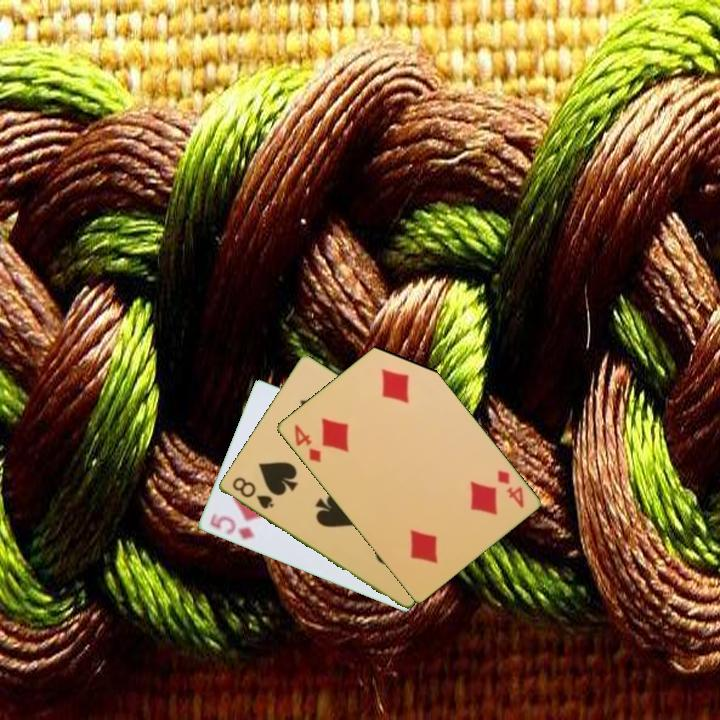4d: (290, 421, 324, 466), (493, 467, 527, 511)
5d: (206, 509, 257, 543)
8s: (228, 473, 276, 512)
